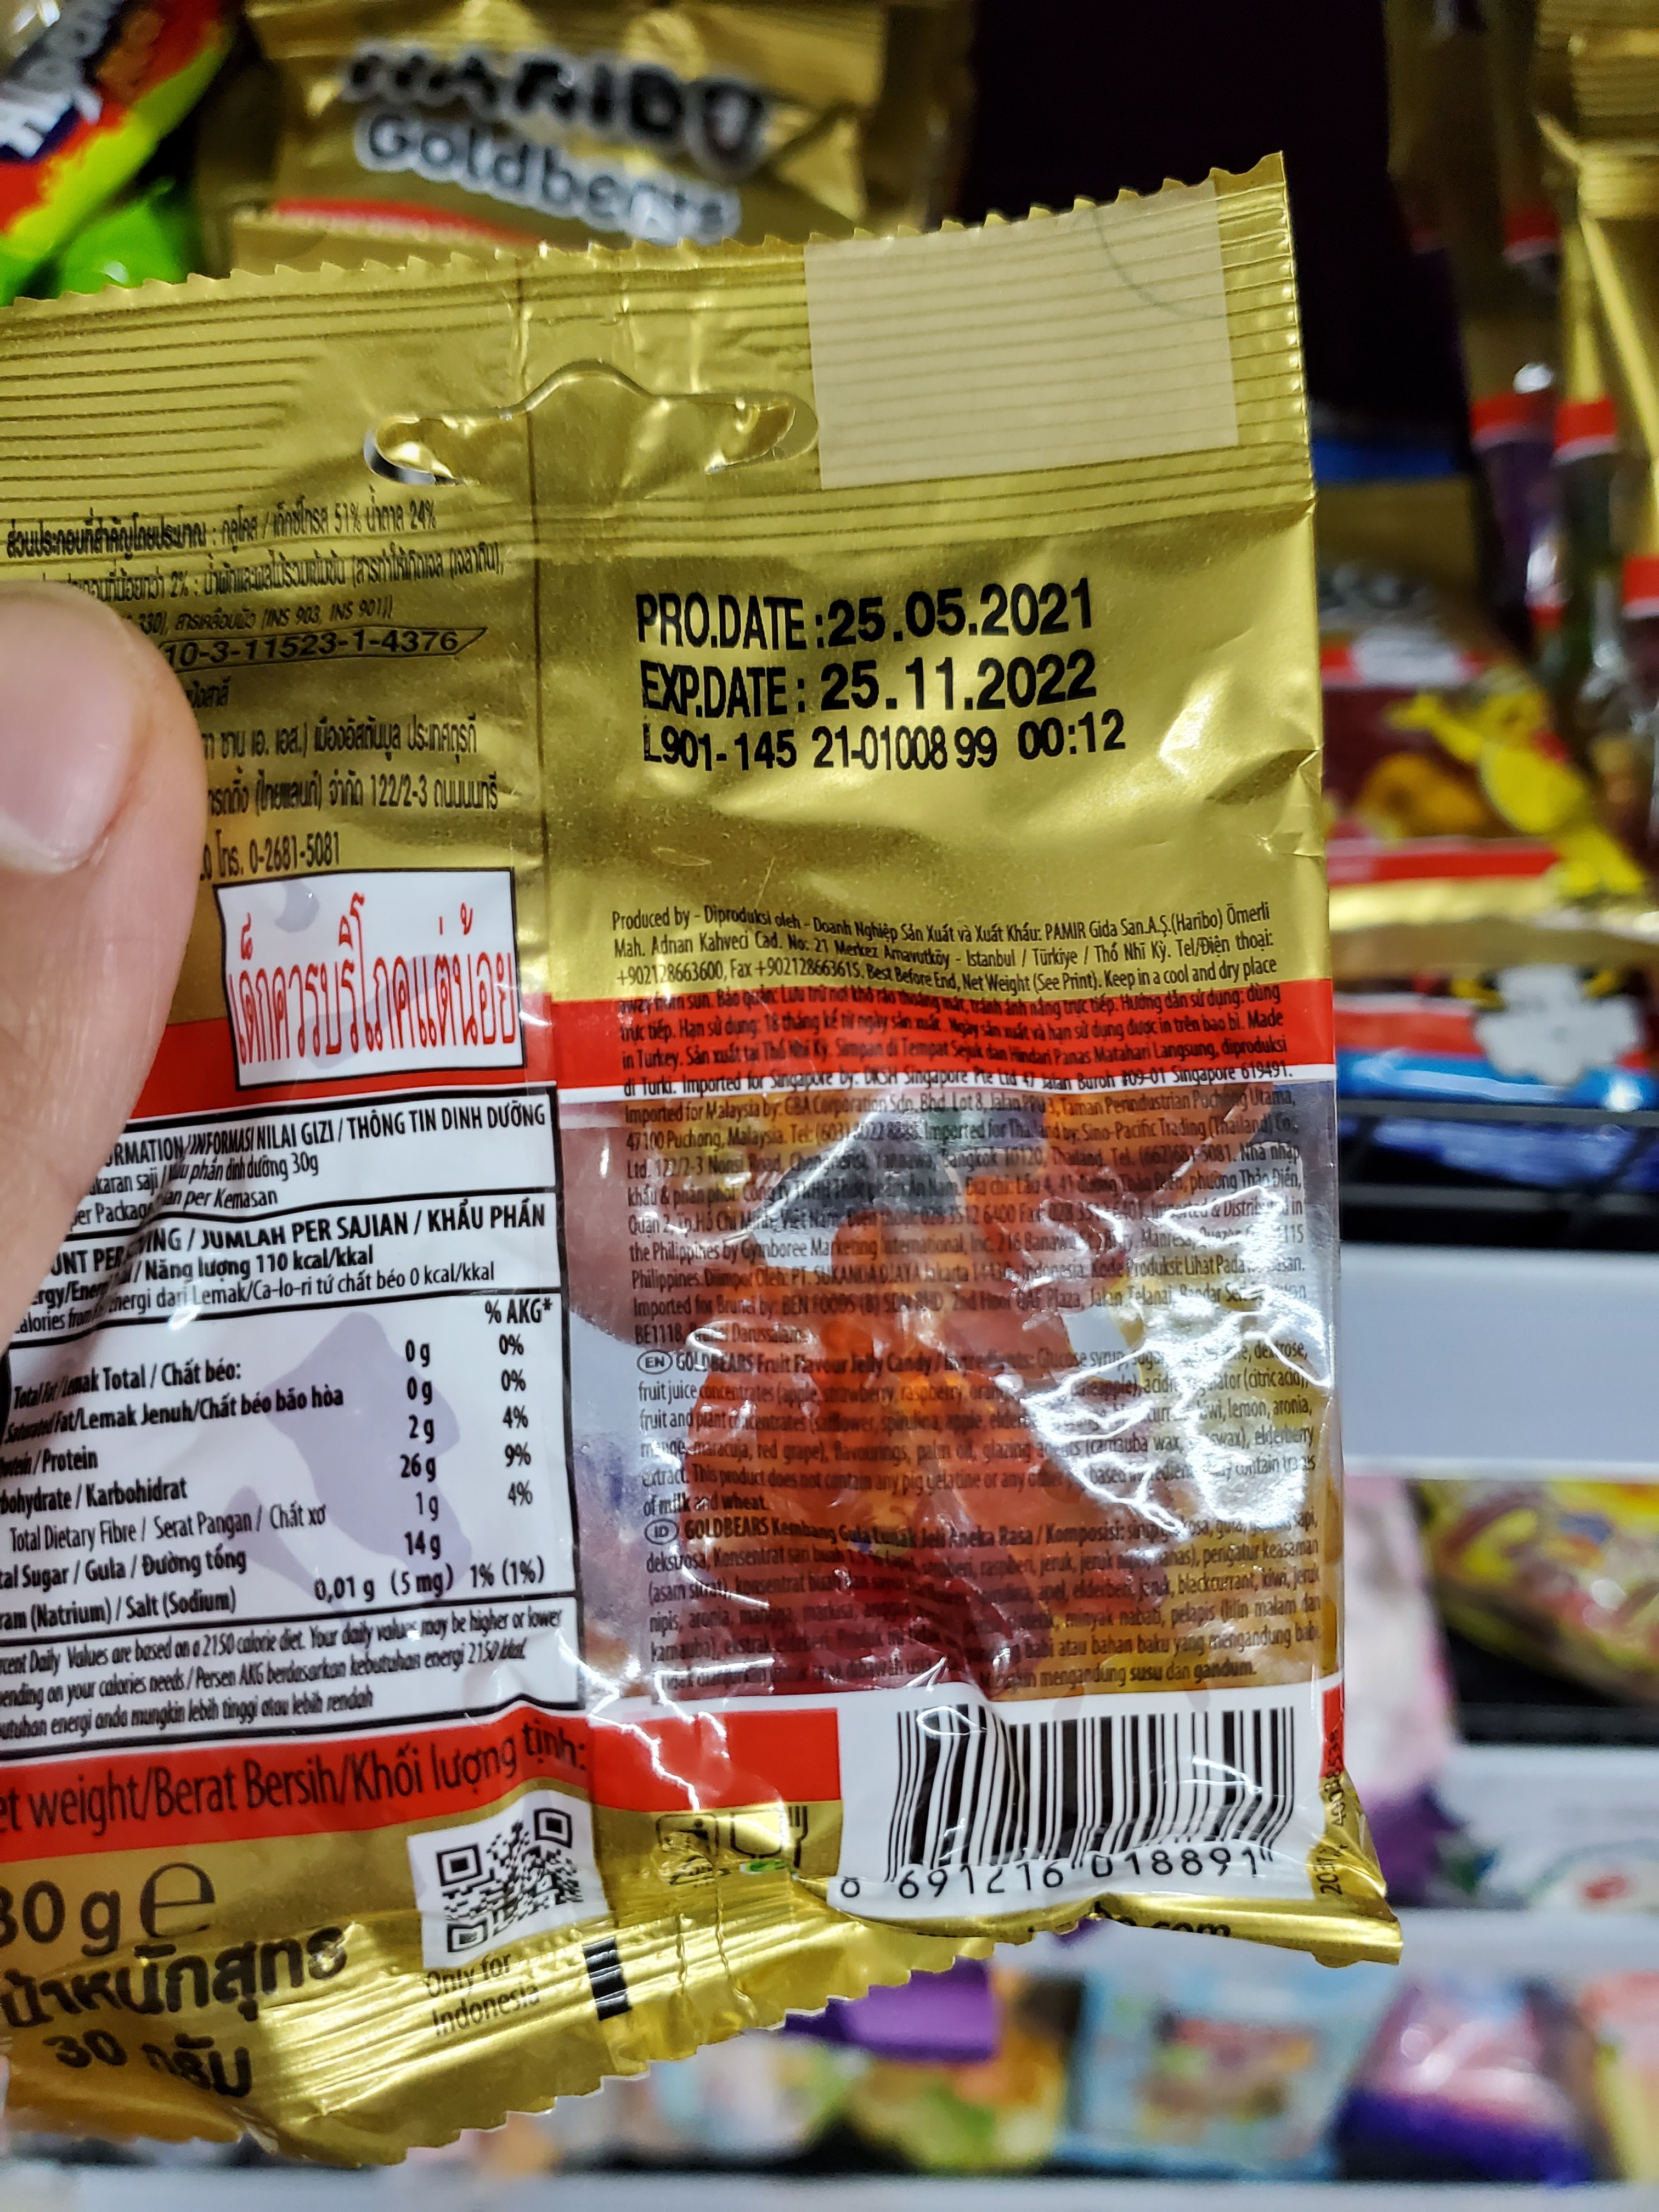BARCODE: (854, 1684, 1317, 1904)
QR CODE: (406, 1796, 608, 1951)
